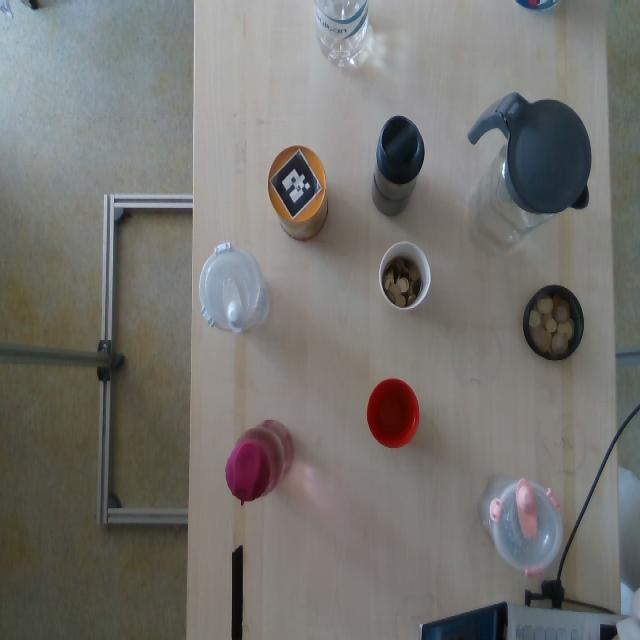cups: (468, 93, 593, 248), (482, 477, 564, 573), (200, 243, 268, 337), (226, 418, 298, 506), (371, 116, 426, 221), (269, 145, 328, 242), (522, 284, 584, 362), (315, 0, 369, 72), (378, 240, 431, 312), (367, 379, 419, 447)
